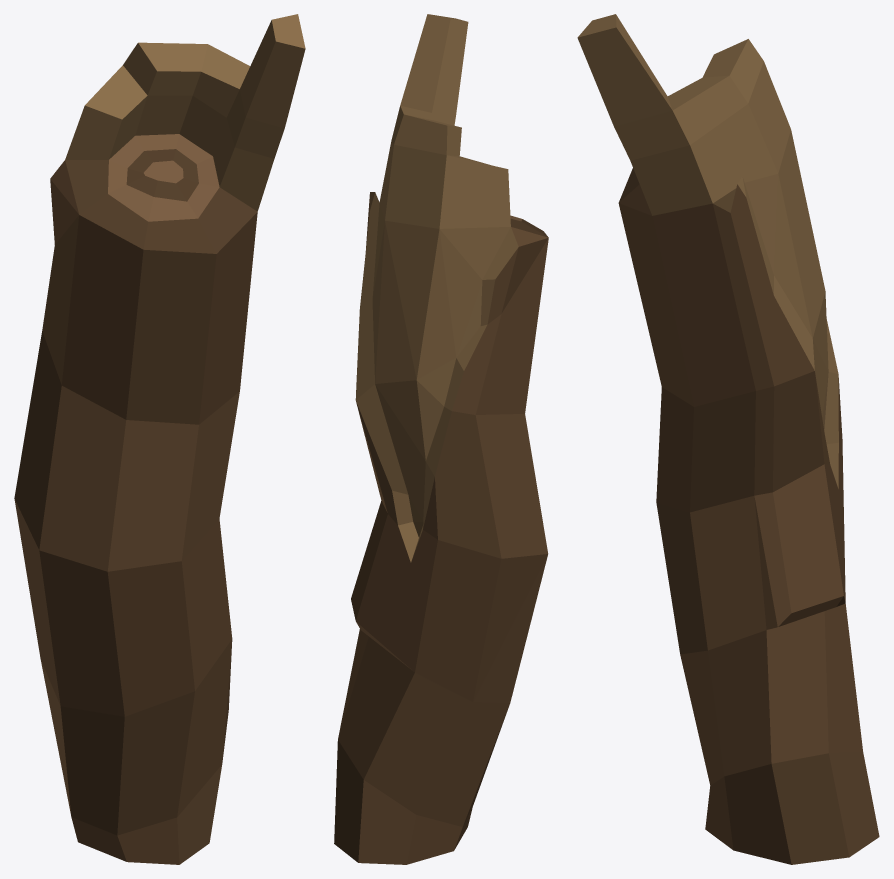
3 renders of one model, left to right at view 1: azimuth 30°, elevation 25°; view 2: azimuth 150°, elevation 25°; view 3: azimuth 270°, elevation 25°, orthographic. The views are drawn at different scales.
Visible parts, largest first — view 1: EM_Root4a_LOD0; view 2: EM_Root4a_LOD0; view 3: EM_Root4a_LOD0.
Boxes of the visible parts, left/top/right/bottom form: EM_Root4a_LOD0: left=14, top=14, right=305, bottom=864; EM_Root4a_LOD0: left=334, top=14, right=548, bottom=864; EM_Root4a_LOD0: left=577, top=14, right=879, bottom=864.
Size of what is drawn, in the model's own units: 0.9442 by 3.72 by 1.22.
